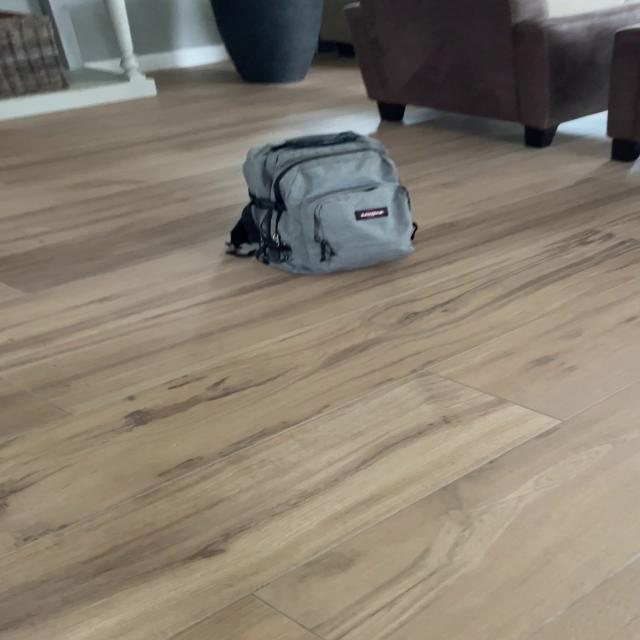backpack: (218, 123, 427, 282)
